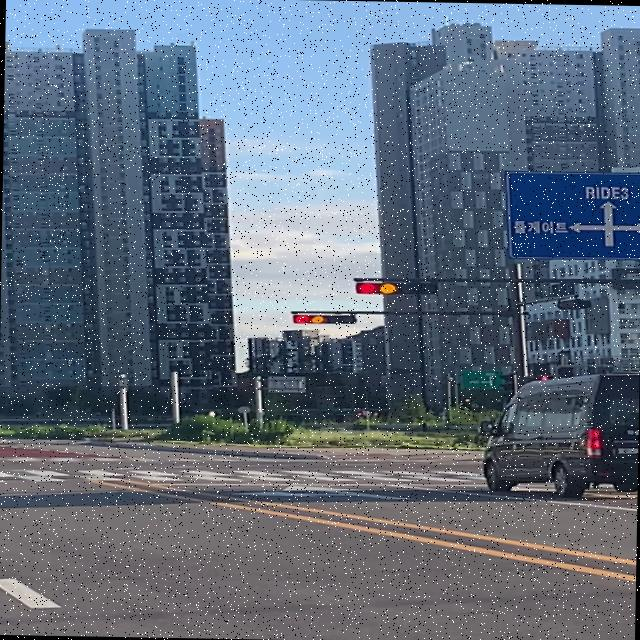yellow_light: (357, 282, 438, 294), (292, 314, 354, 324)
